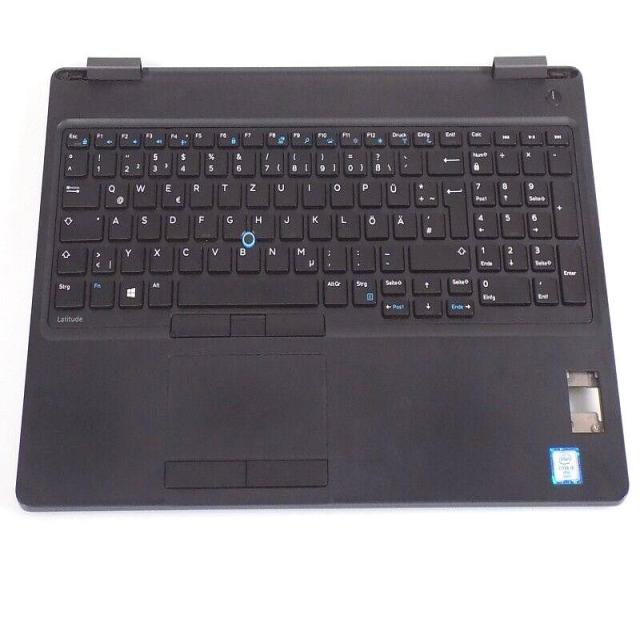0: (341, 146, 365, 174)
1: (91, 149, 116, 176)
2: (119, 148, 143, 175)
3: (147, 147, 171, 175)
4: (175, 147, 199, 175)
5: (202, 148, 226, 174)
6: (230, 148, 255, 174)
7: (259, 147, 283, 175)
8: (286, 147, 310, 175)
9: (313, 147, 338, 174)
a: (107, 210, 131, 238)
accent: (397, 147, 420, 173)
ae: (390, 209, 416, 237)
alt-left: (146, 275, 171, 306)
altgr-right: (321, 274, 346, 304)
b: (234, 243, 259, 271)
c: (176, 242, 202, 271)
caret: (62, 149, 87, 174)
comma: (321, 242, 346, 270)
d: (163, 210, 187, 238)
del: (425, 147, 462, 173)
e: (159, 178, 183, 206)
enter: (439, 176, 465, 237)
f: (192, 210, 216, 238)
g: (220, 210, 243, 238)
h: (248, 210, 273, 236)
hash: (419, 208, 443, 237)
i: (300, 177, 323, 205)
j: (277, 209, 302, 238)
k: (306, 210, 331, 238)
keyboard: (44, 116, 592, 323)
l: (334, 209, 359, 238)
less: (89, 243, 115, 272)
m: (291, 241, 317, 272)
minus: (378, 241, 403, 269)
n: (263, 242, 288, 271)
o: (327, 177, 352, 205)
oe: (363, 209, 388, 238)
p: (356, 177, 380, 205)
plus: (412, 177, 437, 205)
point: (349, 241, 373, 269)
q: (102, 179, 127, 207)
r: (187, 178, 211, 206)
s: (135, 210, 160, 238)
shift-left: (54, 243, 85, 272)
shift-lock: (57, 210, 102, 240)
shift-right: (407, 239, 470, 269)
space: (174, 275, 317, 304)
ss: (368, 146, 393, 174)
strg-left: (51, 275, 83, 306)
strg-right: (350, 274, 376, 304)
t: (215, 178, 239, 205)
tab: (60, 179, 98, 205)
u: (272, 177, 296, 206)
ue: (383, 176, 409, 205)
v: (206, 242, 231, 271)
w: (131, 178, 156, 207)
x: (147, 242, 173, 271)
y: (119, 242, 144, 272)
z: (243, 178, 268, 205)
